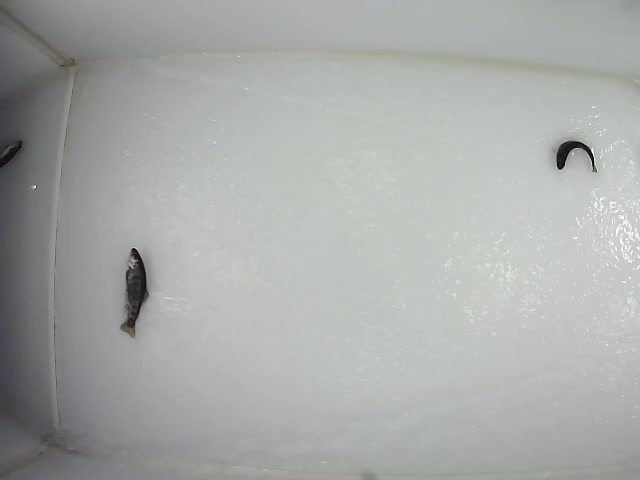fish: (118, 244, 148, 340), (554, 140, 599, 175)
